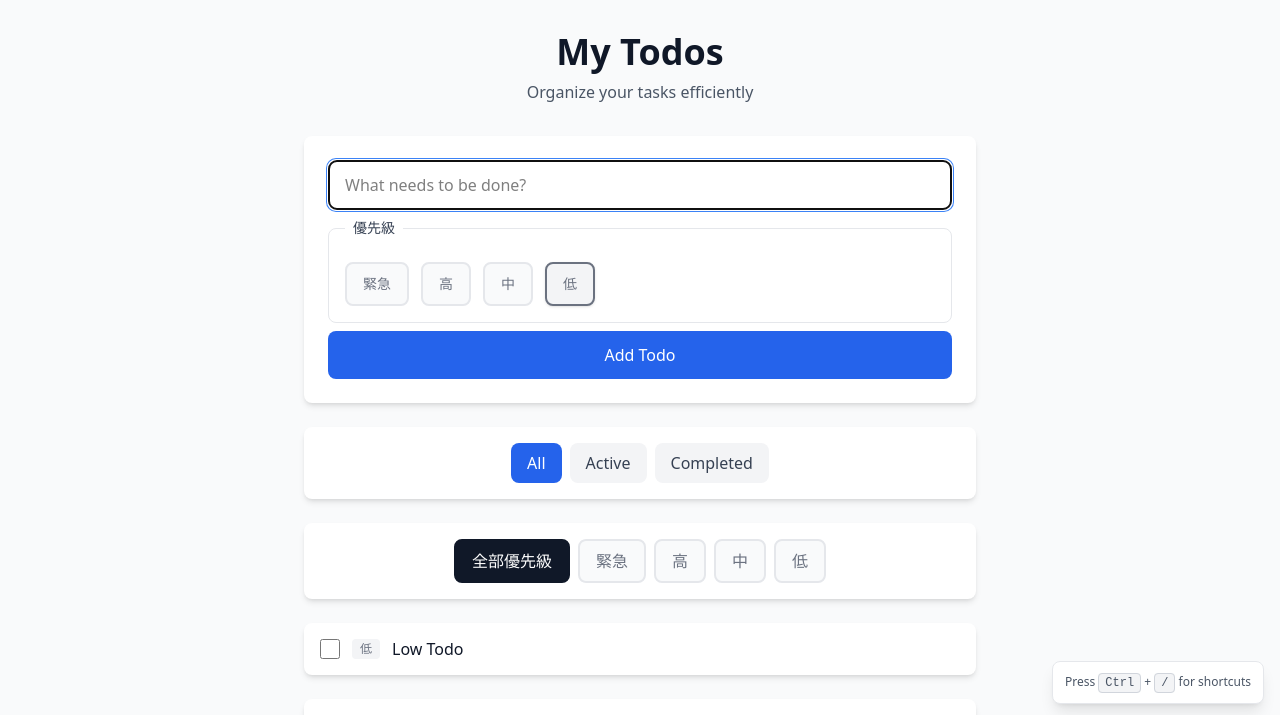
Test: TodoList › Priority Filter Functionality (CR-002) › should show empty state when no todos match priority filter
Step 1. Click the button "緊急" → (612, 561), box [578,539,646,583]
(page scrolled)
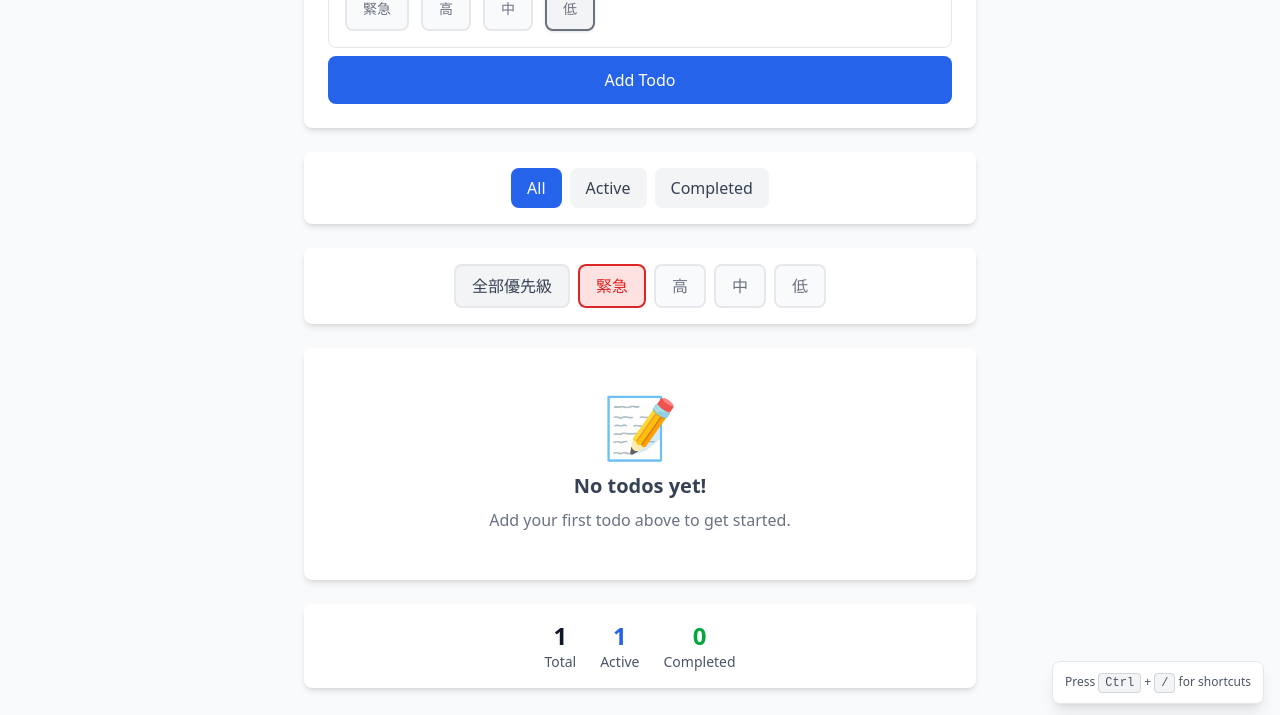
Result: the heading "No todos yet!" is shown at [574,472,706,499]
